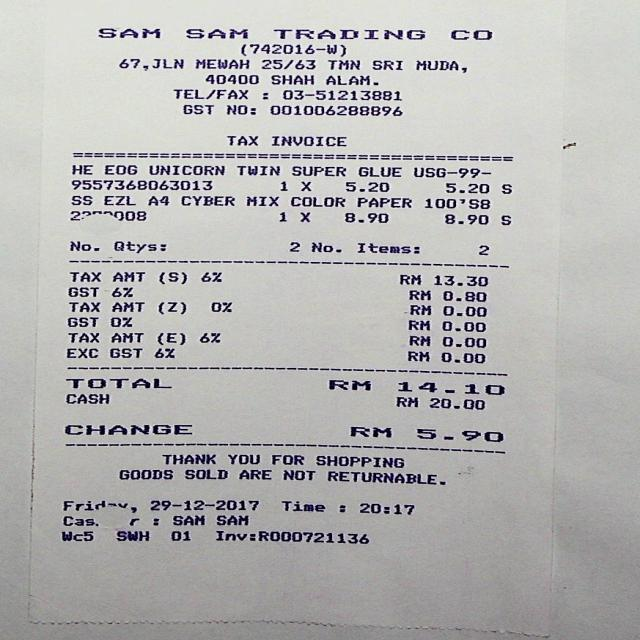text: (213, 530, 368, 544), (325, 471, 443, 485), (269, 104, 401, 116), (272, 29, 424, 39), (396, 381, 504, 395), (70, 180, 212, 190), (63, 424, 191, 435), (239, 44, 345, 56), (314, 454, 402, 468), (415, 428, 502, 442), (282, 90, 401, 100), (149, 500, 257, 510), (65, 378, 170, 388), (61, 500, 136, 513), (412, 167, 490, 178), (148, 164, 223, 175), (172, 88, 246, 99), (270, 136, 346, 146), (69, 210, 145, 220), (117, 59, 182, 70), (423, 198, 488, 209), (112, 241, 165, 253), (355, 243, 418, 253), (427, 398, 484, 409), (414, 60, 466, 72), (432, 275, 487, 286), (98, 28, 158, 38), (290, 196, 344, 207), (356, 197, 410, 208), (358, 503, 412, 514), (184, 29, 246, 38), (160, 454, 215, 464), (260, 59, 314, 69), (290, 166, 344, 176), (118, 469, 172, 479), (204, 74, 257, 84), (324, 75, 377, 85), (440, 336, 484, 348), (442, 290, 485, 302), (439, 352, 484, 363), (279, 501, 324, 512), (194, 59, 248, 68), (444, 182, 488, 193), (440, 321, 484, 332), (64, 393, 108, 404), (183, 468, 227, 479), (180, 196, 233, 205), (357, 166, 400, 177), (344, 212, 387, 223), (442, 305, 485, 316), (348, 426, 390, 437), (235, 165, 279, 175), (344, 182, 388, 192), (443, 214, 487, 224), (328, 380, 370, 390), (269, 75, 312, 84), (156, 301, 185, 314), (114, 530, 148, 541), (450, 30, 491, 39), (156, 332, 184, 345), (270, 454, 303, 465), (67, 301, 99, 312), (62, 516, 97, 526), (279, 180, 310, 191), (61, 530, 92, 541), (110, 272, 144, 282), (157, 272, 185, 284), (245, 196, 278, 206), (278, 211, 308, 222), (67, 272, 100, 282), (109, 332, 142, 342), (171, 515, 204, 525), (214, 515, 247, 525), (326, 60, 358, 70), (181, 104, 213, 114), (111, 302, 143, 312), (66, 316, 98, 326), (66, 332, 98, 342), (65, 348, 97, 358), (227, 454, 259, 464), (238, 469, 270, 479), (282, 470, 314, 480), (69, 240, 98, 251), (103, 195, 134, 205), (226, 135, 256, 145), (310, 242, 340, 252), (108, 348, 141, 357), (104, 165, 136, 174), (66, 287, 98, 296), (226, 104, 254, 114), (370, 60, 401, 69), (394, 396, 416, 407), (200, 271, 221, 282), (408, 335, 429, 346), (407, 350, 428, 361), (70, 164, 92, 174), (398, 274, 420, 284), (109, 287, 131, 297), (408, 290, 430, 300), (408, 305, 430, 315), (197, 332, 219, 342), (70, 195, 91, 205), (210, 302, 231, 312), (407, 320, 428, 330), (170, 530, 189, 541), (153, 348, 173, 358), (146, 196, 168, 205), (109, 317, 131, 326), (499, 214, 510, 225), (477, 244, 488, 255), (288, 242, 298, 252), (501, 183, 510, 194), (127, 518, 138, 525), (338, 504, 344, 512), (261, 92, 267, 99), (152, 518, 158, 525)
